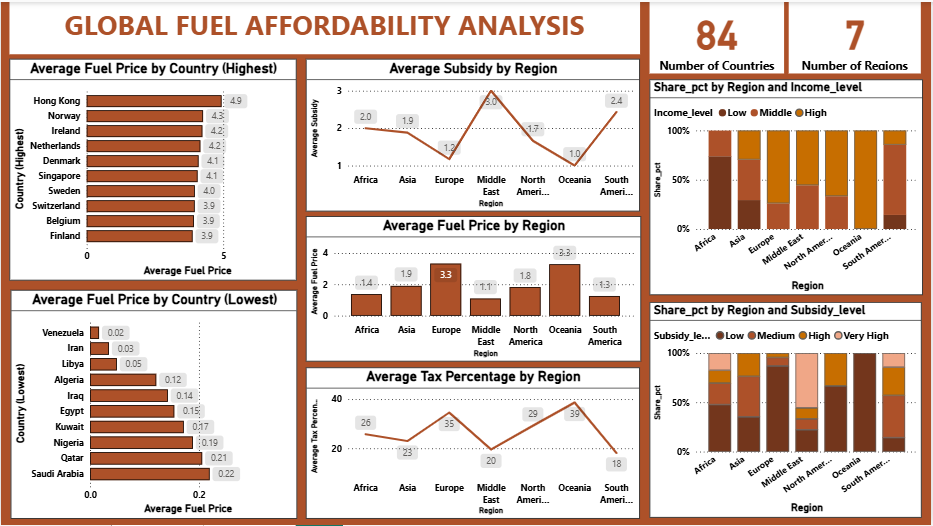

The dashboard page shown, as its layout file describes it:
{"tool":"powerbi","page":{"name":"Page 1","canvas":[1280,720],"ordinal":0},"visuals":[{"type":"clusteredBarChart","fields":{"Category":["countries_with_highest_average_fuel_prices.country"],"Y":["Sum(countries_with_highest_average_fuel_prices.avg_fuel_price)"]},"box":[11.7,78.3,394.6,304.7],"z":0},{"type":"clusteredBarChart","fields":{"Category":["countries_with_lowest_average_fuel_prices.country"],"Y":["Sum(countries_with_lowest_average_fuel_prices.avg_fuel_price)"]},"box":[13.3,396.3,394.6,314.7],"z":1000},{"type":"clusteredColumnChart","fields":{"Category":["average_fuel_price_by_region.region"],"Y":["Sum(average_fuel_price_by_region.avg_fuel_price)"]},"box":[419.6,294.7,461.2,199.8],"z":2000},{"type":"lineChart","fields":{"Category":["subsidy_by_region.region"],"Y":["Sum(subsidy_by_region.avg_subsidy)"]},"box":[419.6,78.3,459.6,209.8],"z":3000},{"type":"lineChart","fields":{"Category":["tax_by_region.region"],"Y":["Sum(tax_by_region.avg_tax_percentage)"]},"box":[419.6,502.9,459.6,208.1],"z":4000},{"type":"card","fields":{"Values":["Sum(number_of_countries.Value)"]},"box":[892.5,0,184.8,98.2],"z":5000},{"type":"card","fields":{"Values":["Sum(number_of_regions.Value)"]},"box":[1084,0,181.5,98.2],"z":6000},{"type":"textbox","box":[11.7,0,867.5,71.6],"z":7000},{"type":"hundredPercentStackedColumnChart","fields":{"Category":["region_subsidy_spread.region"],"Y":["Sum(region_subsidy_spread.share_pct)"],"Series":["region_subsidy_spread.subsidy_level"]},"box":[892.5,412.9,374.6,296.4],"z":8000},{"type":"hundredPercentStackedColumnChart","fields":{"Category":["region_income_spread.region"],"Series":["region_income_spread.income_level"],"Y":["Sum(region_income_spread.share_pct)"]},"box":[892.5,106.6,376.3,296.4],"z":9000}]}

Visuals, with their boxes in screenshot pixels (x1, y1, x2, y2), scaled from the page's 1280x720 canvas onto the 933x526 screenshot:
clusteredBarChart - countries_with_highest_average_fuel_prices.country x Sum(countries_with_highest_average_fuel_prices.avg_fuel_price): x1=9, y1=57, x2=296, y2=280
clusteredBarChart - countries_with_lowest_average_fuel_prices.country x Sum(countries_with_lowest_average_fuel_prices.avg_fuel_price): x1=10, y1=290, x2=297, y2=519
clusteredColumnChart - average_fuel_price_by_region.region x Sum(average_fuel_price_by_region.avg_fuel_price): x1=306, y1=215, x2=642, y2=361
lineChart - subsidy_by_region.region x Sum(subsidy_by_region.avg_subsidy): x1=306, y1=57, x2=641, y2=210
lineChart - tax_by_region.region x Sum(tax_by_region.avg_tax_percentage): x1=306, y1=367, x2=641, y2=519
card - Sum(number_of_countries.Value): x1=651, y1=0, x2=785, y2=72
card - Sum(number_of_regions.Value): x1=790, y1=0, x2=922, y2=72
textbox: x1=9, y1=0, x2=641, y2=52
hundredPercentStackedColumnChart - region_subsidy_spread.region x Sum(region_subsidy_spread.share_pct): x1=651, y1=302, x2=924, y2=518
hundredPercentStackedColumnChart - region_income_spread.region x region_income_spread.income_level: x1=651, y1=78, x2=925, y2=294
